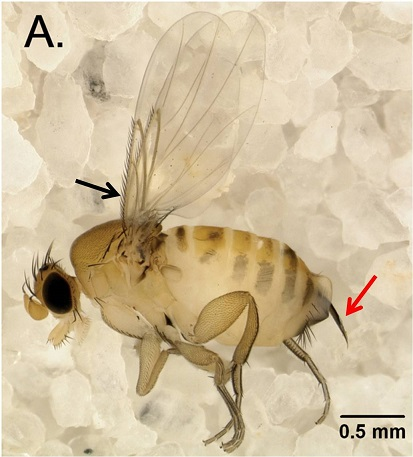phorid fly: (15, 4, 367, 457)
